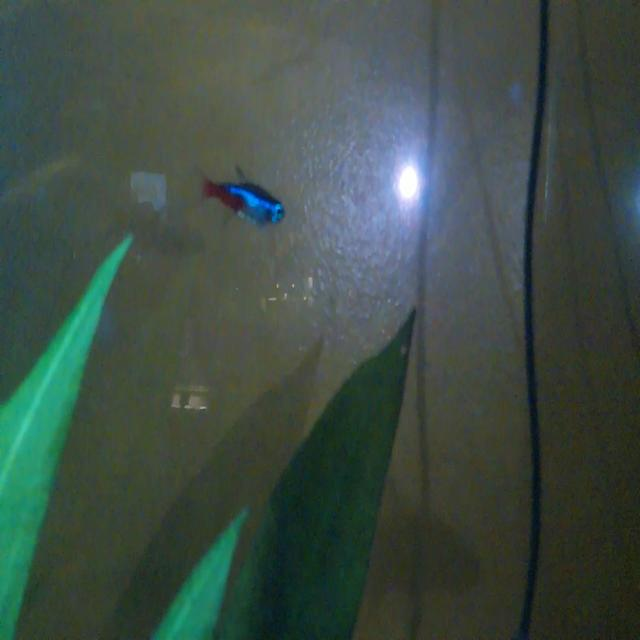fish: (198, 152, 288, 235)
